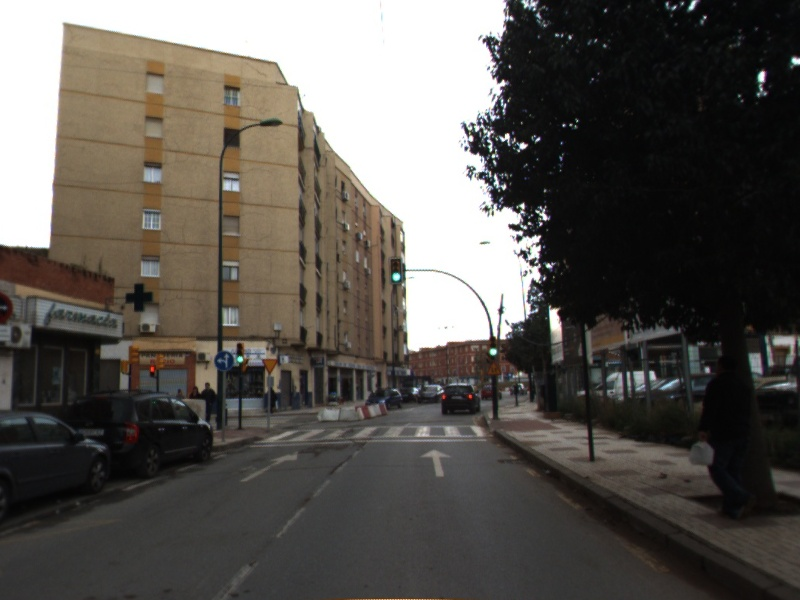STRAIGHT: (238, 448, 301, 484), (417, 446, 455, 479)
